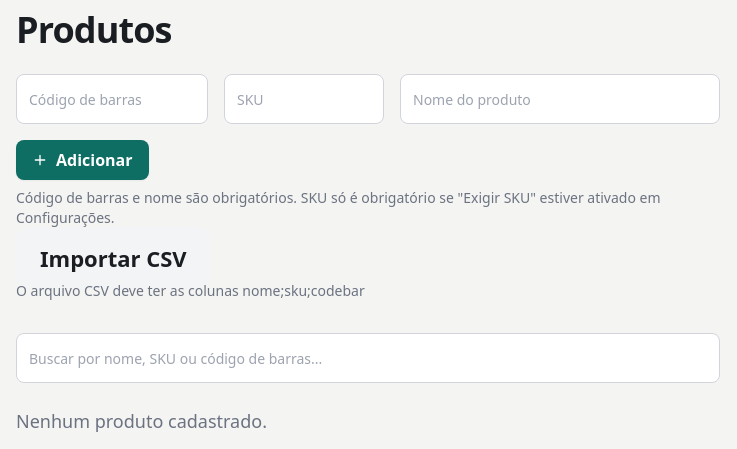
ProductsPage › shows a message pointing at Configurações when the server requires a SKU
The image size is (737, 449).
Type "78947467" into the field with placeholder "Código de barras" at {"x": 112, "y": 99}, box 16,74 -> 208,124
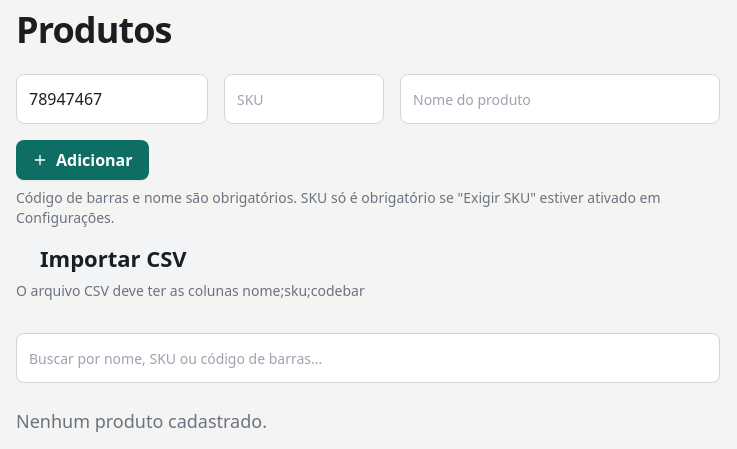
Type "Produto qualquer" into the field with placeholder "Nome do produto" at {"x": 560, "y": 99}, box 400,74 -> 720,124
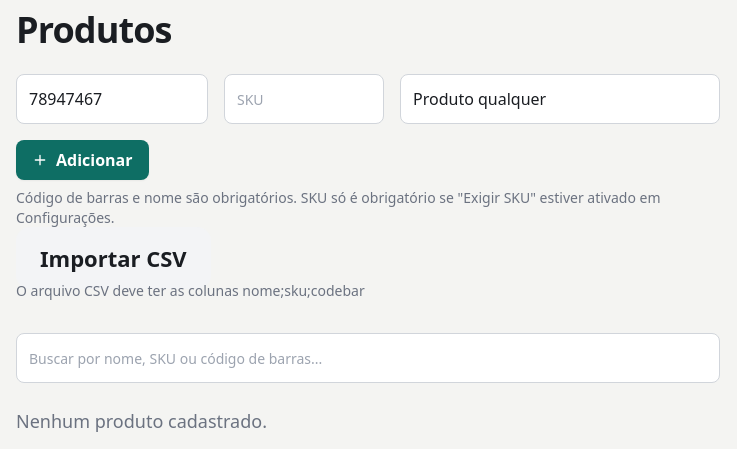
Click the button "Adicionar" at {"x": 82, "y": 160}, box 16,140 -> 148,180
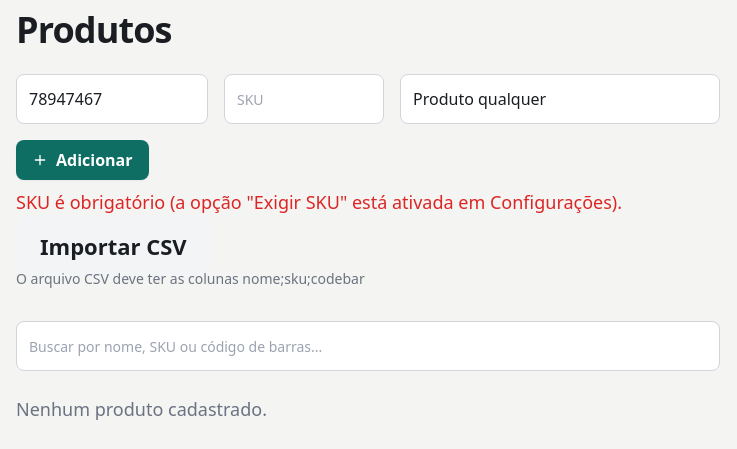
Expected: the text "SKU é obrigatório" is shown, 16,190 -> 622,214
